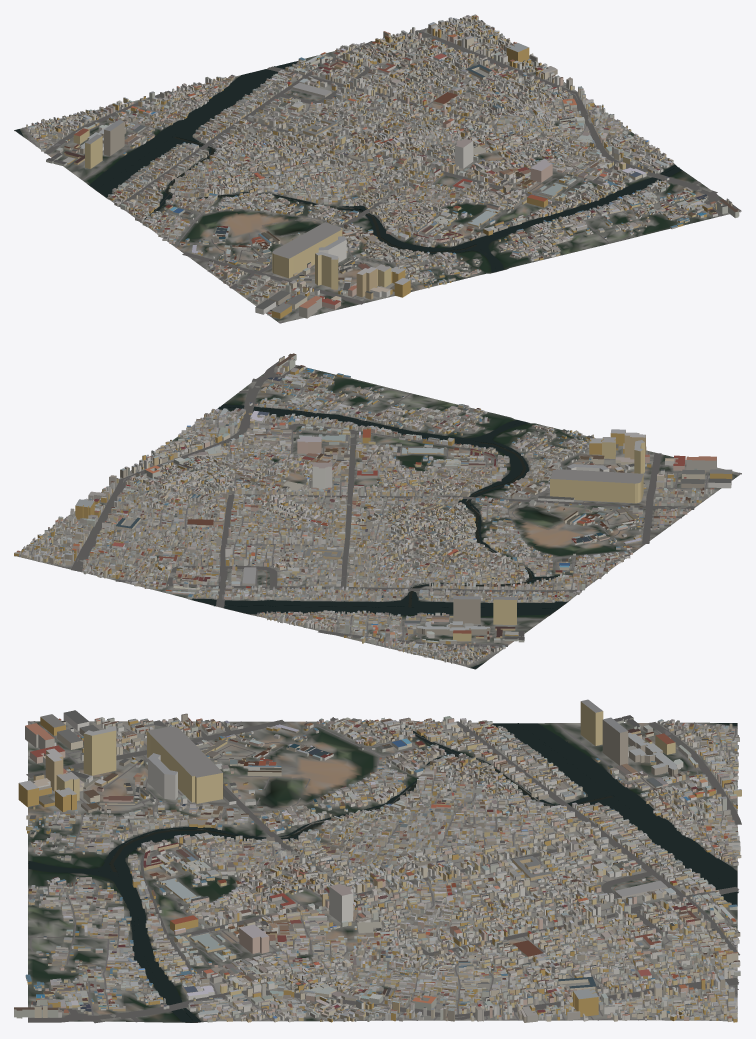
The picture shows the model from 3 angles, top to bottom: view 1: azimuth 30°, elevation 25°; view 2: azimuth 150°, elevation 25°; view 3: azimuth 270°, elevation 25°; orthographic projection. The views are drawn at different scales.
Visible parts, largest first — view 1: buildings, ground, roads, water; view 2: buildings, ground, roads, water; view 3: buildings, ground, roads, water.
Boxes of the visible parts, x1,y1,x2,y2 form: buildings: (26,14,739,318); ground: (14,18,740,323); roads: (22,19,741,323); water: (15,61,682,272); buildings: (14,353,732,664); ground: (14,365,741,669); roads: (19,361,741,667); water: (191,404,595,668); buildings: (14,699,741,1022); ground: (28,721,737,1022); roads: (26,720,741,1023); water: (28,723,738,1022).
Size of the model in its own units: 1436 by 93.35 by 1437.
